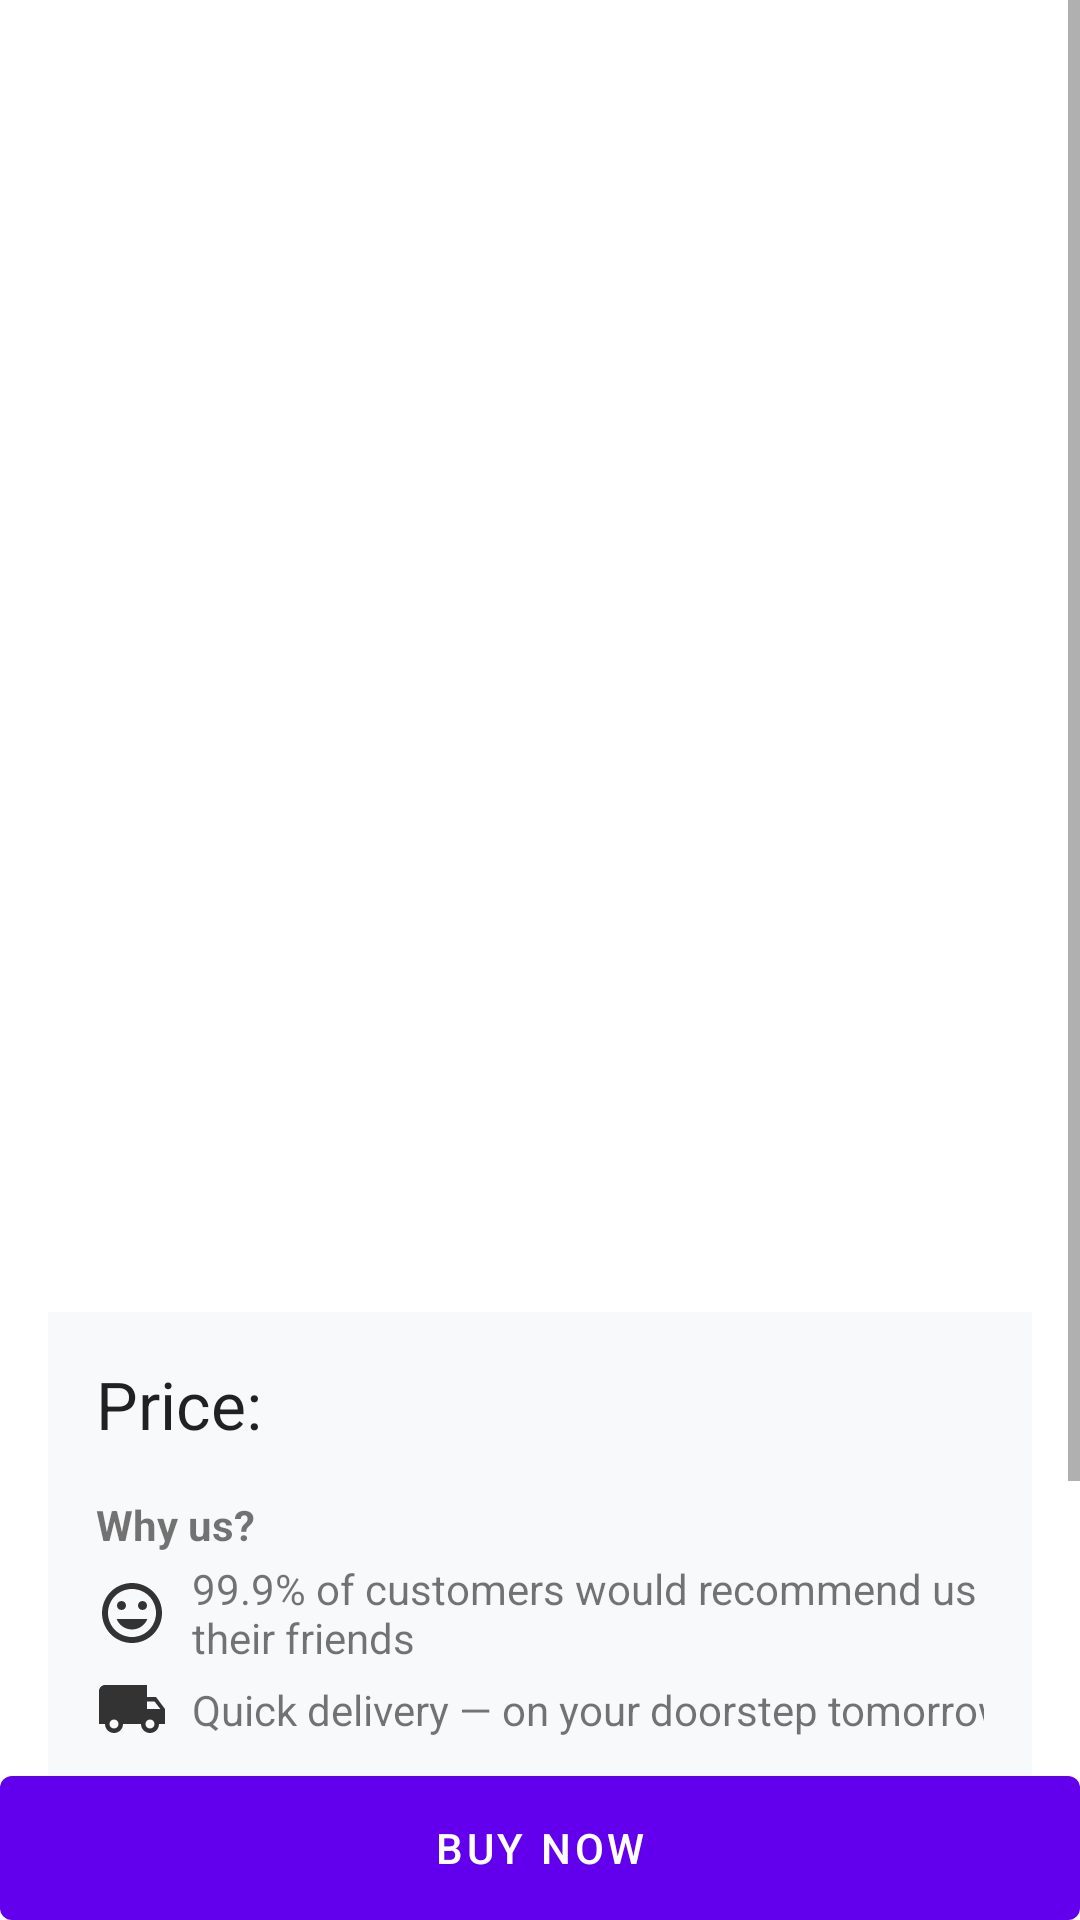

Where icons sit on this 1080px×1920px app screen, as (x1, y1, x2, y2):
happy face: (102, 1583, 162, 1643)
